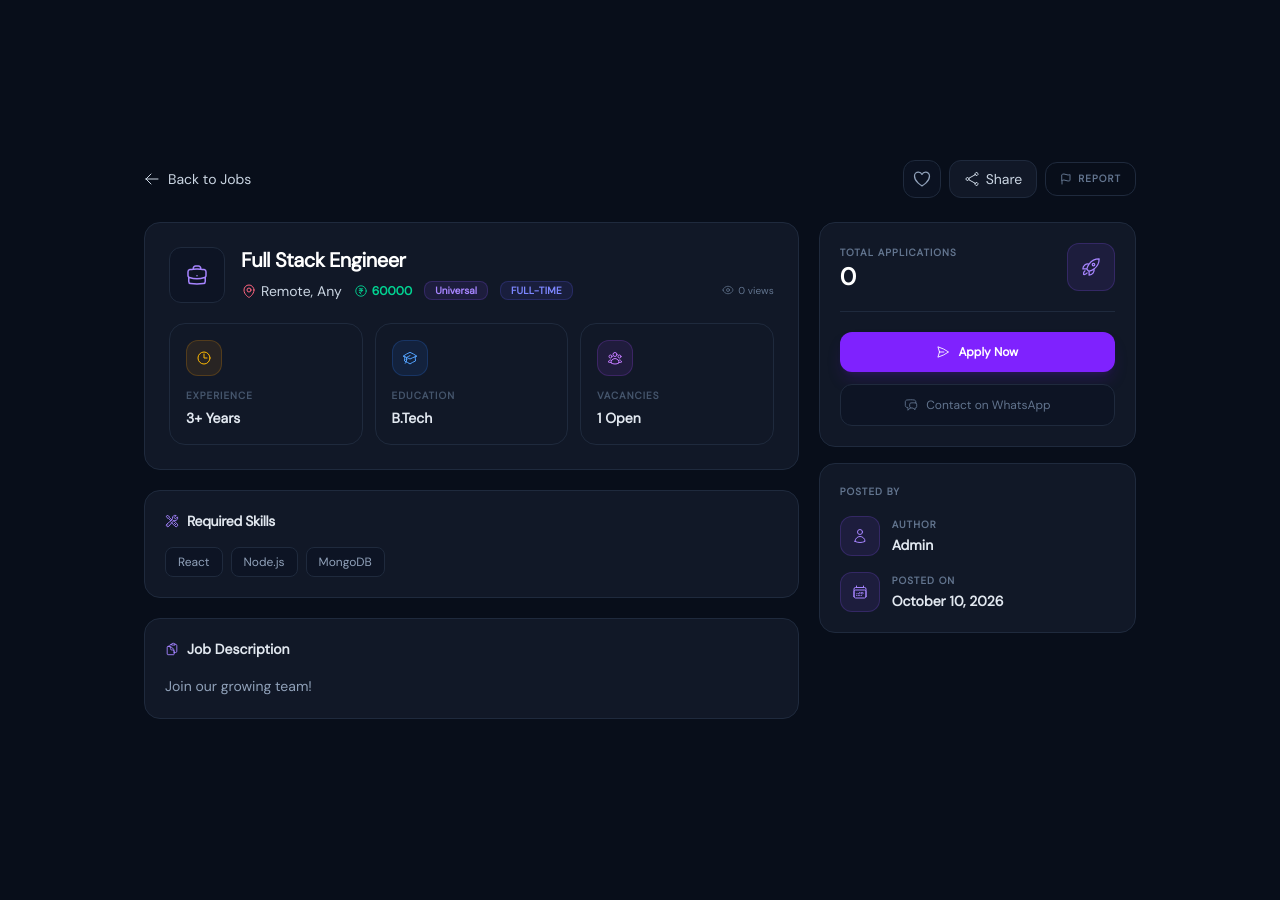
JobDetails Page › opens report modal
The width and height of the screenshot is (1280, 900).
Expected: the heading "Full Stack Engineer" is shown, [241,247,405,274]
Step 1. Click the button "Report" → (1091, 179), box [1045,162,1136,196]
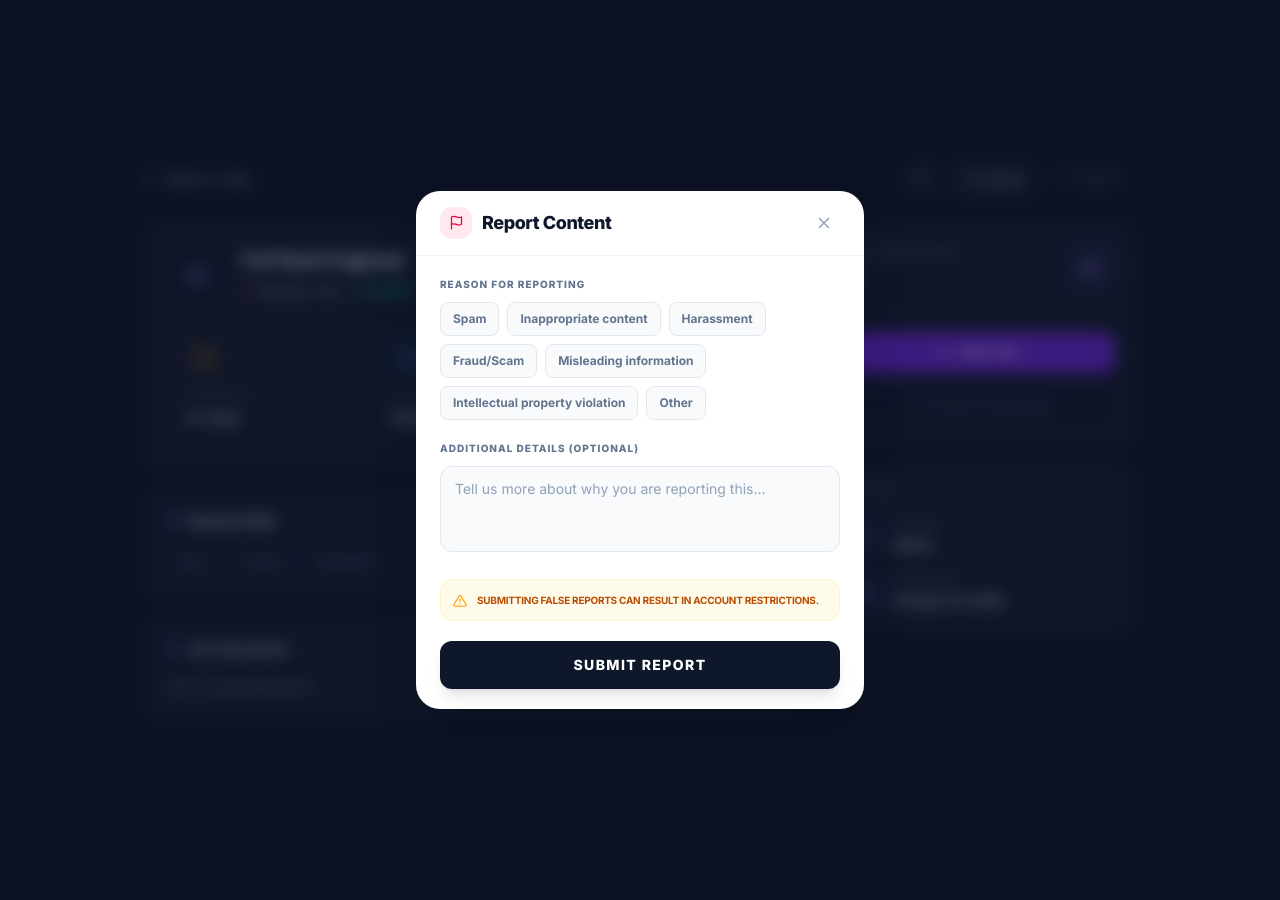
Now the heading "Report Content" is shown, box [482,209,611,237]
